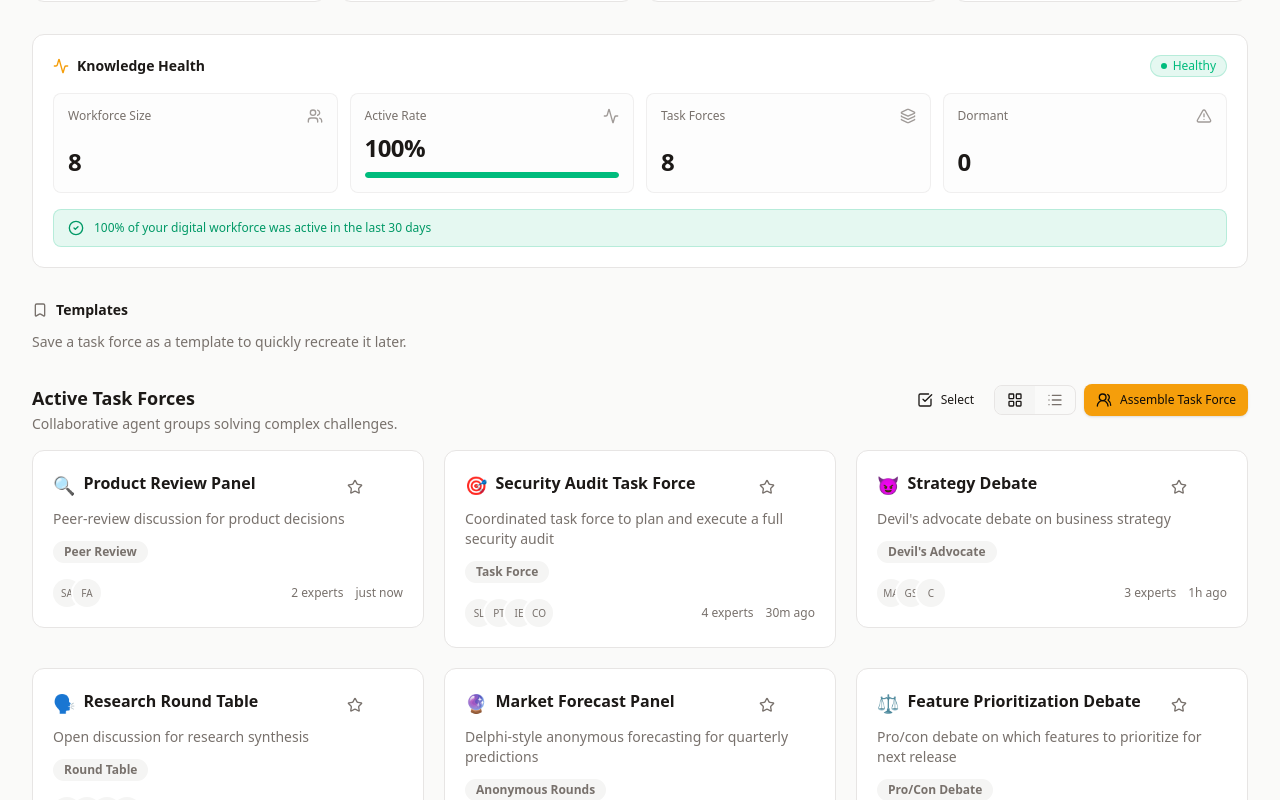
Test: WorkforceDashboard bulk delete › deletes nothing until the deletion is confirmed
This screenshot has width=1280, height=800.
(page scrolled)
Step 1. Click the button "Select" → (945, 400), box [905,384,986,416]
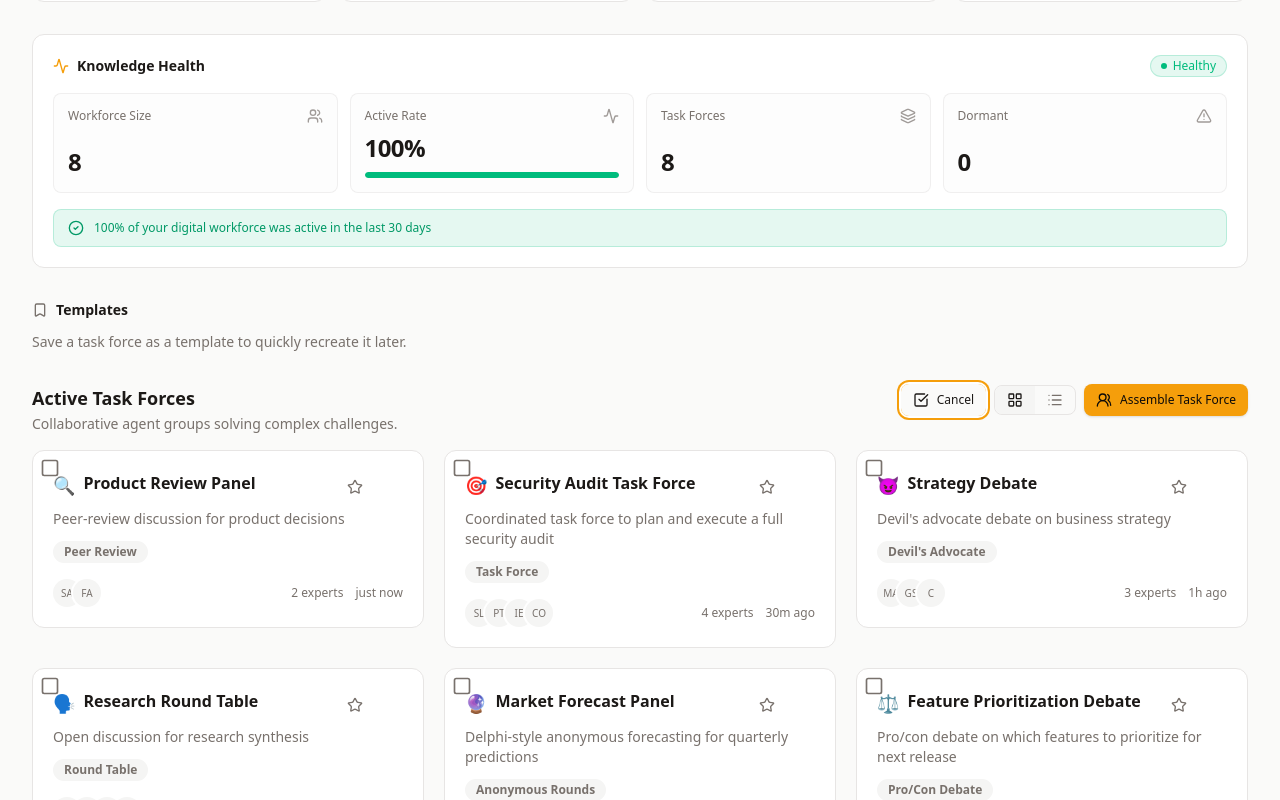
Result: the button named "Select" next to "Product Review Panel" is shown
Step 2. Click the button named "Select" next to "Product Review Panel" → (50, 468), box [40,458,60,478]
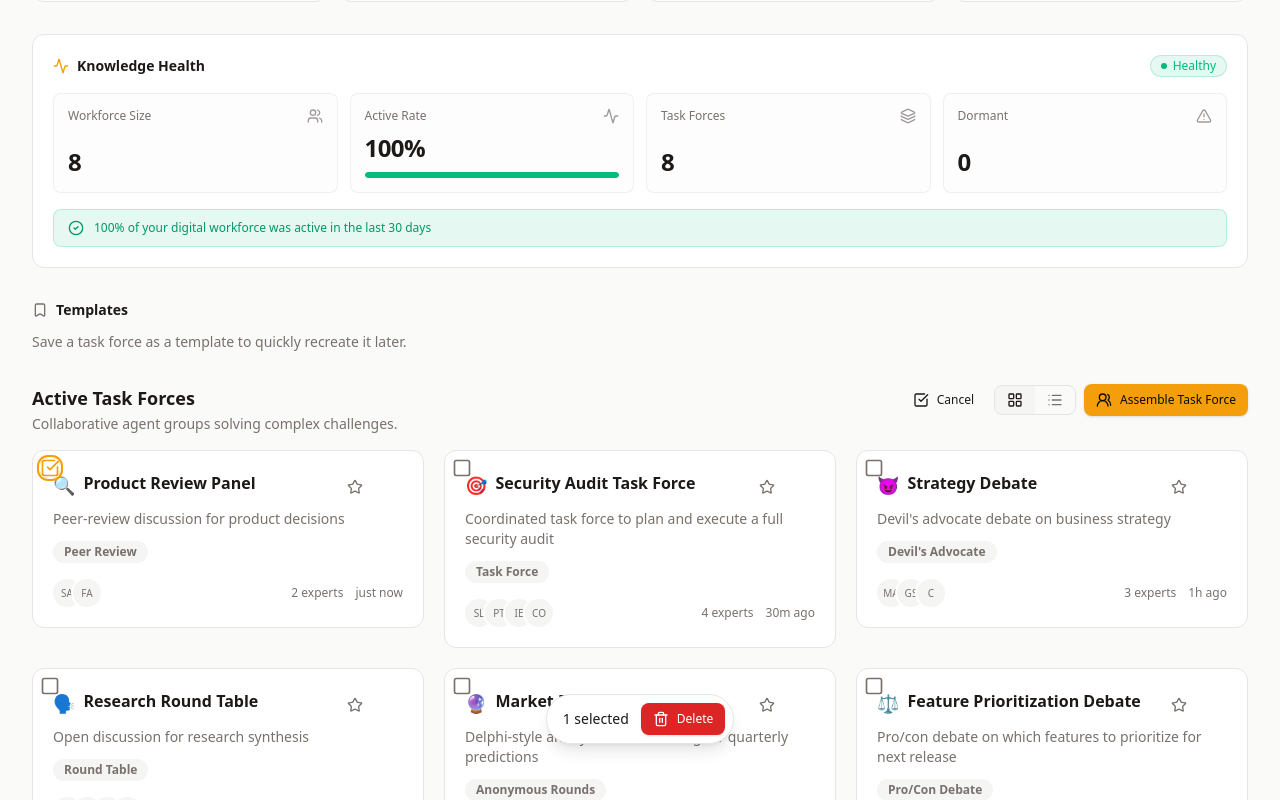
Step 3. Click the button with test id "bulk-delete-btn" → (683, 719), box [641,703,725,735]
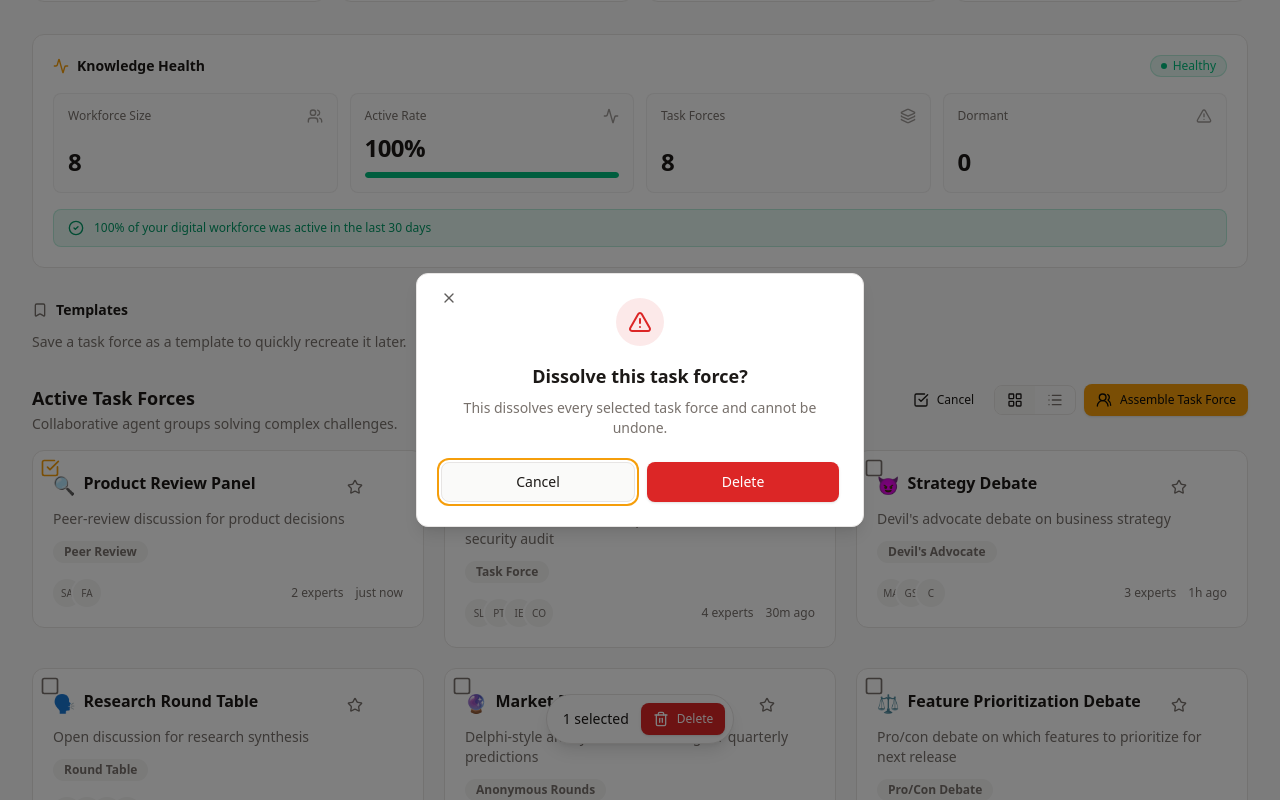
Result: the dialog is shown at [416,273,864,527]
